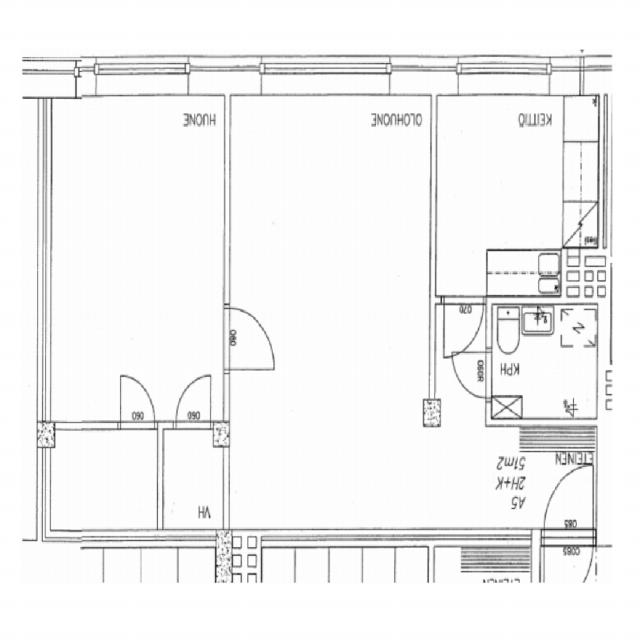door: (544, 528, 592, 609), (544, 464, 592, 545), (224, 308, 275, 369), (444, 294, 483, 356), (176, 376, 210, 429), (120, 377, 154, 429), (453, 352, 492, 396)
